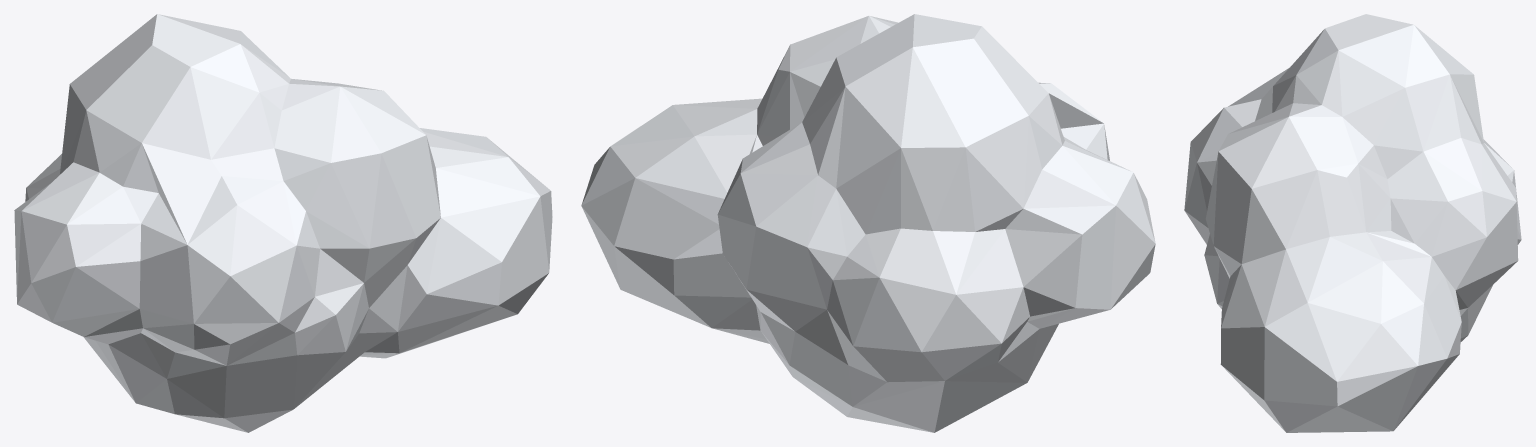
The model's file is Clould_C.glb.
The picture shows the model from 3 angles, left to right: view 1: azimuth 30°, elevation 25°; view 2: azimuth 150°, elevation 25°; view 3: azimuth 270°, elevation 25°; orthographic projection. The views are drawn at different scales.
Parts seen in each view (by area): view 1: Clould_C; view 2: Clould_C; view 3: Clould_C.
Part boxes in pixels (left/top/right/bottom): Clould_C: left=14, top=14, right=552, bottom=432; Clould_C: left=581, top=14, right=1155, bottom=432; Clould_C: left=1184, top=14, right=1521, bottom=432.
Size of the model in its own units: 69.95 by 48.7 by 43.16.
1 material, 1 textured.
